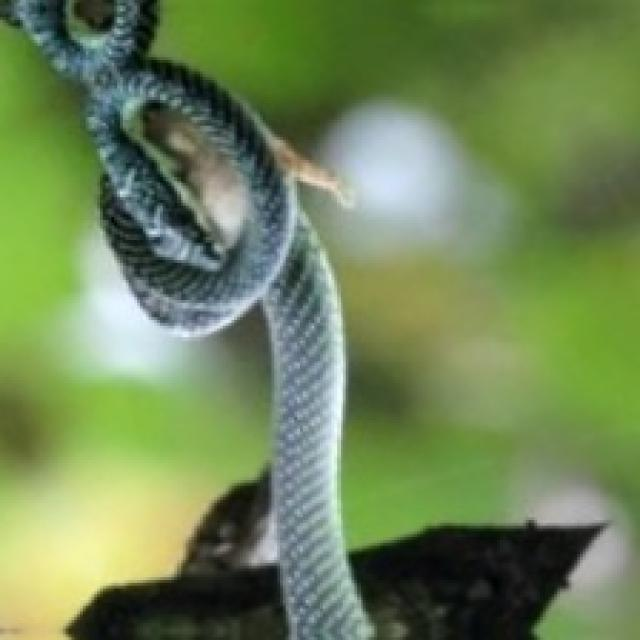paradise tree snake: (151, 0, 637, 637), (0, 26, 269, 637)
